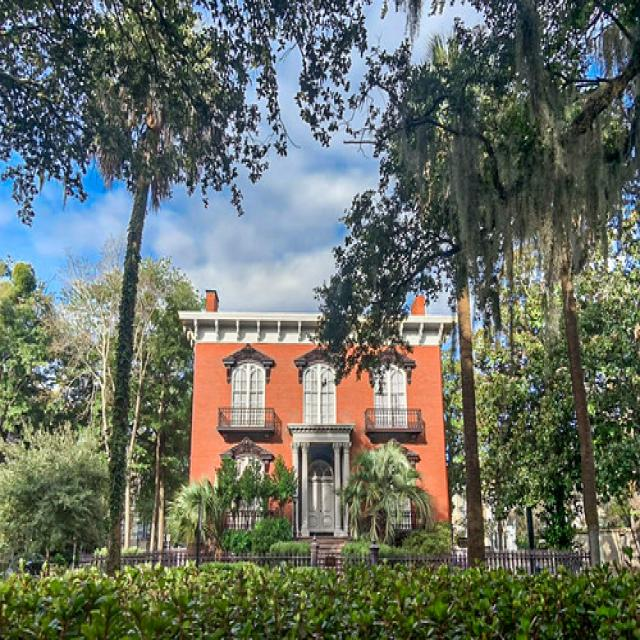Normal_building: (173, 289, 459, 564)
